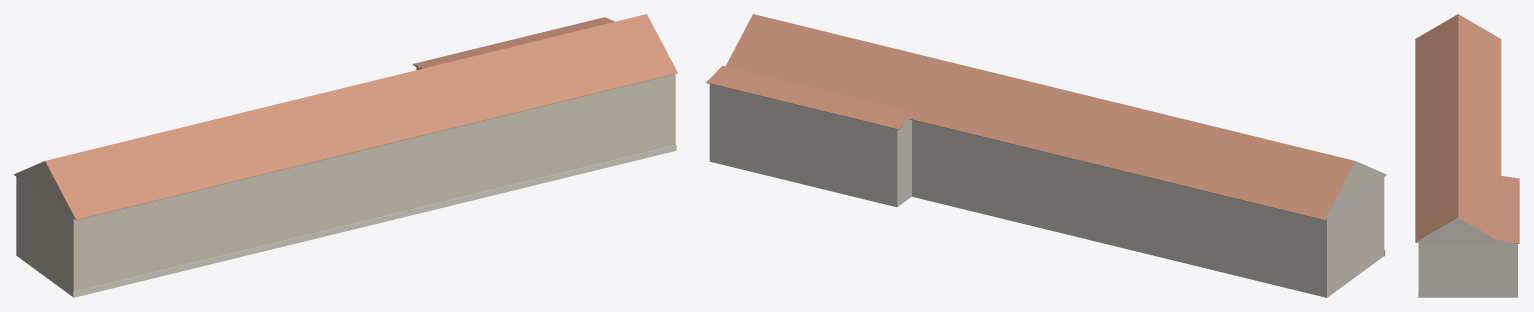
File: cpG1529.glb
3 renders of one model, left to right at view 1: azimuth 30°, elevation 25°; view 2: azimuth 150°, elevation 25°; view 3: azimuth 270°, elevation 25°, orthographic. The views are drawn at different scales.
Visible parts, largest first — view 1: CP_G1529_Masonry, CP_G1529_Roof, CP_G1529_Cornice_plinth_0, CP_G1529_WingRoof_Rear, CP_G1529_Gable_L_gable, CP_G1529_Roof_EaveClosure_0; view 2: CP_G1529_Masonry, CP_G1529_Roof, CP_G1529_WingRoof_Rear, CP_G1529_Gable_L_gable, CP_G1529_Roof_EaveClosure_1; view 3: CP_G1529_Roof, CP_G1529_Masonry, CP_G1529_WingRoof_Rear, CP_G1529_Gable_R_gable.
Boxes of the visible parts, x1,y1,x2,y2 form: CP_G1529_Masonry: (16,67,675,296); CP_G1529_Roof: (45,14,677,219); CP_G1529_Cornice_plinth_0: (73,145,676,297); CP_G1529_WingRoof_Rear: (413,17,614,68); CP_G1529_Gable_L_gable: (14,161,79,219); CP_G1529_Roof_EaveClosure_0: (74,73,677,220); CP_G1529_Masonry: (709,84,1384,297); CP_G1529_Roof: (726,14,1355,219); CP_G1529_WingRoof_Rear: (706,65,914,128); CP_G1529_Gable_L_gable: (1321,161,1386,220); CP_G1529_Roof_EaveClosure_1: (909,119,1326,220); CP_G1529_Roof: (1415,14,1501,242); CP_G1529_Masonry: (1418,242,1517,297); CP_G1529_WingRoof_Rear: (1497,175,1519,243); CP_G1529_Gable_R_gable: (1415,217,1500,242).
Bounding box in the file's own units: 43.72 × 8 × 9.45.
